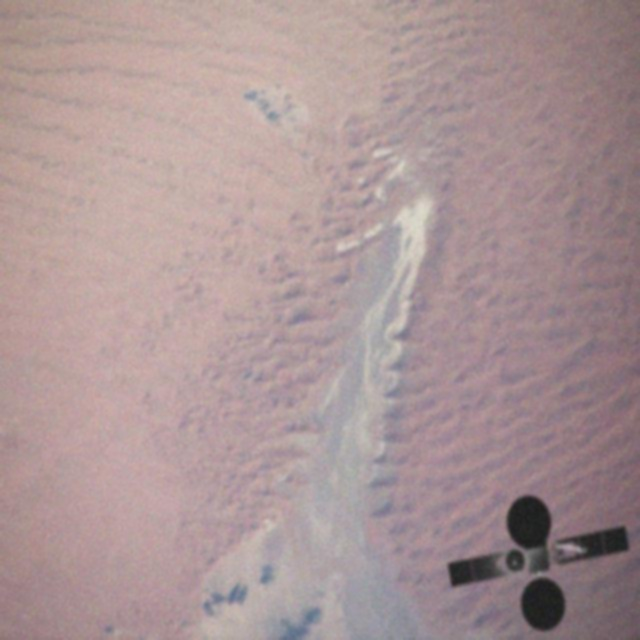satellite: (428, 481, 640, 640)
